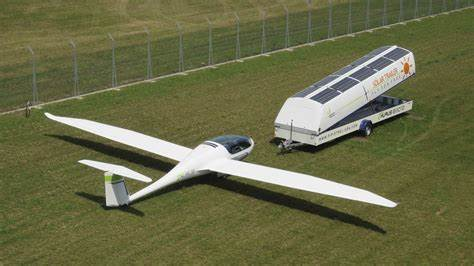Aeronef_de_loisir: (40, 104, 404, 228)
